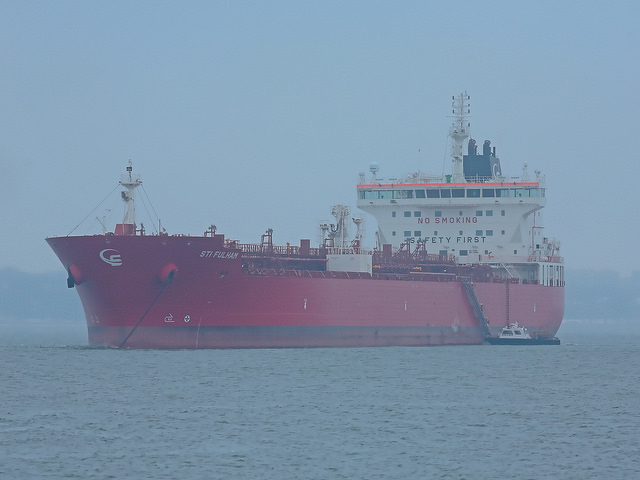boat: (481, 318, 572, 350)
tanker: (39, 100, 586, 358)
